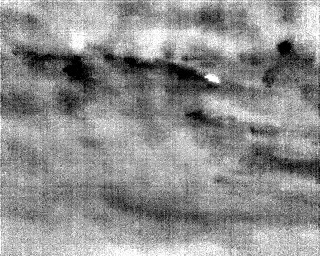BIRD: (202, 70, 222, 87)
